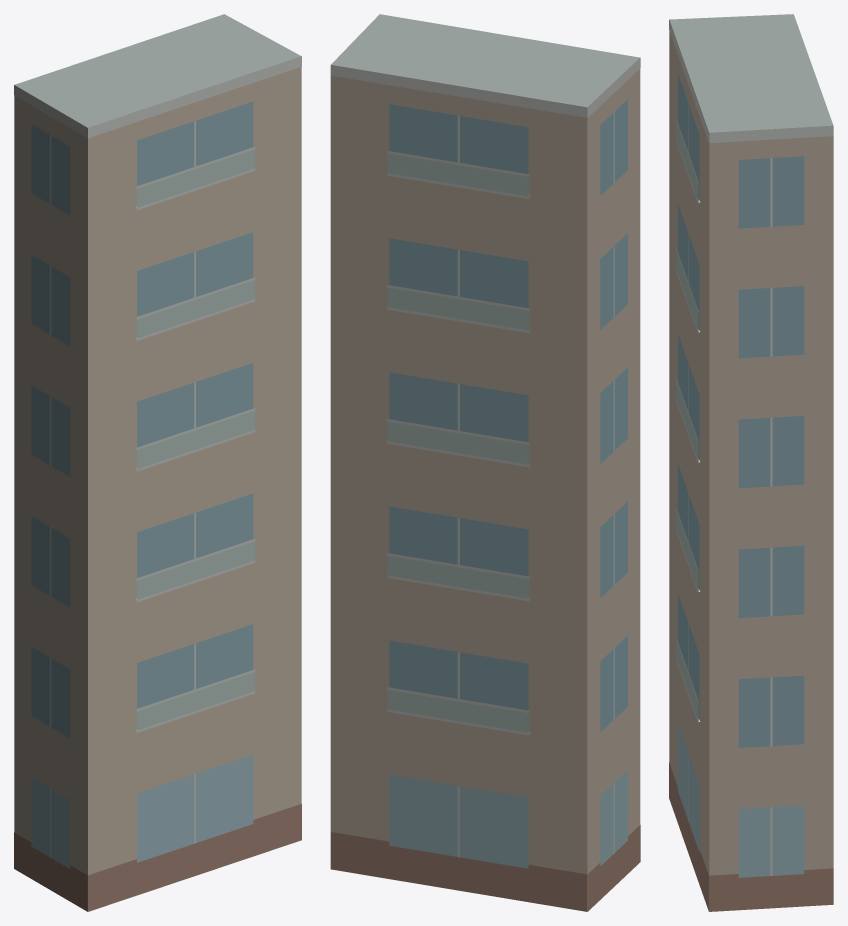
File: survey-upis-32819488.glb
3 renders of one model, left to right at view 1: azimuth 30°, elevation 25°; view 2: azimuth 150°, elevation 25°; view 3: azimuth 270°, elevation 25°, orthographic. The views are drawn at different scales.
Visible parts, largest first — view 1: survey-upis-32819488.tmp; view 2: survey-upis-32819488.tmp; view 3: survey-upis-32819488.tmp.
Boxes of the visible parts, x1=… form: survey-upis-32819488.tmp: x1=14, y1=14, x2=301, y2=911; survey-upis-32819488.tmp: x1=330, y1=14, x2=640, y2=911; survey-upis-32819488.tmp: x1=669, y1=14, x2=833, y2=911.
Size of the model in its own units: 6 by 18.3 by 3.51.
